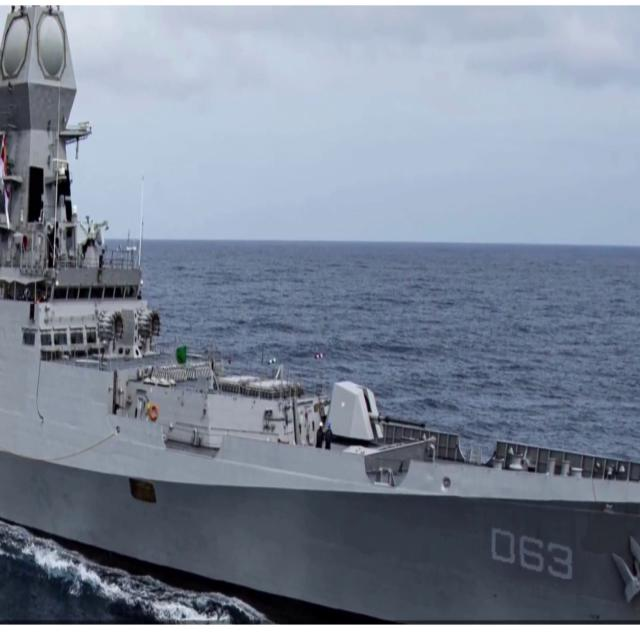OCR: (488, 517, 577, 579)
